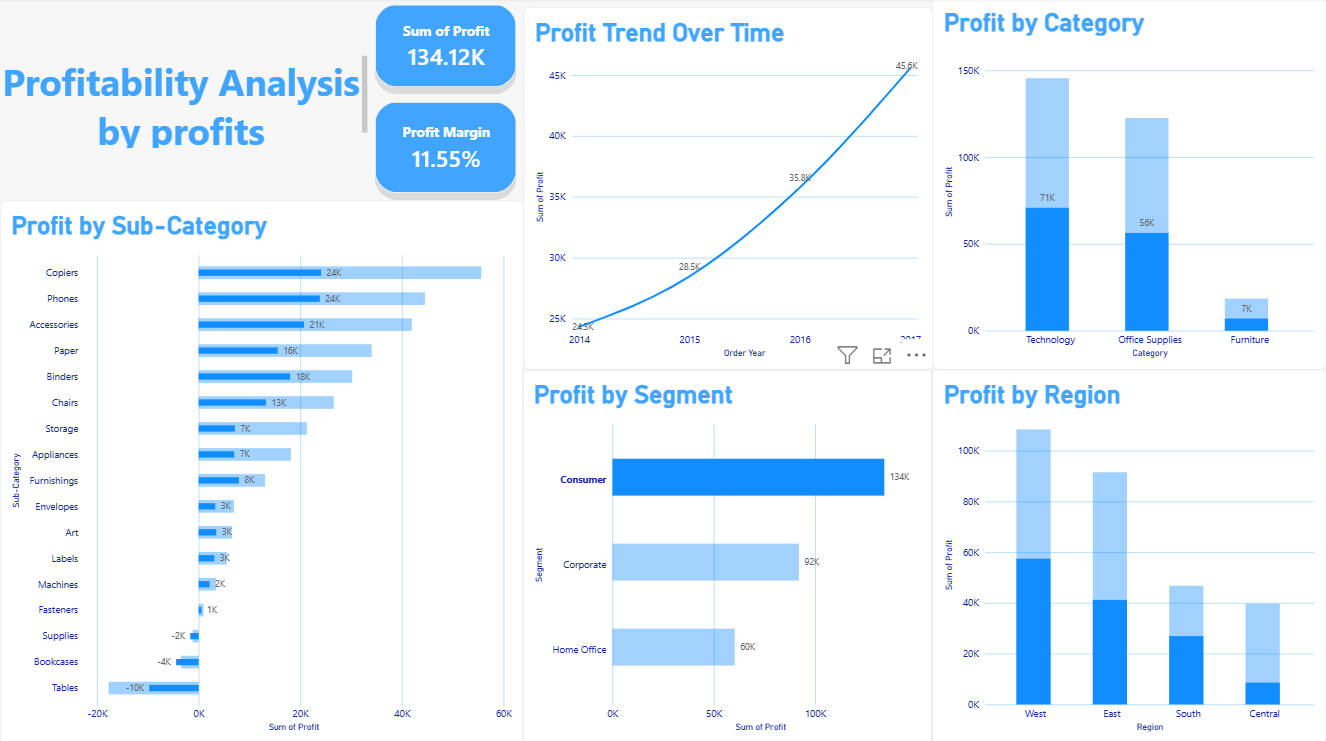

This screenshot's page, from the dashboard's own definition file:
{"tool":"powerbi","page":{"name":"Profitability_Analysis","canvas":[1920,1080],"ordinal":1},"visuals":[{"type":"cardVisual","fields":{"Data":["Sum(Superstore.Profit)"]},"box":[532,0,226.2,141.2],"z":0},{"type":"cardVisual","fields":{"Data":["Superstore.Profit Margin"]},"box":[532,141.2,226.2,153.8],"z":1},{"type":"clusteredColumnChart","title":"Profit by Category","fields":{"Category":["Superstore.Category"],"Y":["Sum(Superstore.Profit)"]},"box":[1350.3,0,570.2,539.3],"z":2},{"type":"lineChart","title":"Profit Trend Over Time","fields":{"Category":["Superstore.Order Year"],"Y":["Sum(Superstore.Profit)"]},"box":[757.5,14.4,592.8,524.9],"z":3},{"type":"barChart","title":"Profit by Sub-Category","fields":{"Category":["Superstore.Sub-Category"],"Y":["Sum(Superstore.Profit)"]},"box":[0,295,758.2,785.4],"z":4},{"type":"barChart","title":"Profit by Segment","fields":{"Category":["Superstore.Segment"],"Y":["Sum(Superstore.Profit)"]},"box":[757,539,593,541],"z":5},{"type":"columnChart","title":"Profit by Region","fields":{"Category":["Superstore.Region"],"Y":["Sum(Superstore.Profit)"]},"box":[1350,539,570,541],"z":6},{"type":"textbox","box":[0,85.1,532,133.9],"z":7}]}

Visuals, with their boxes in screenshot pixels (x1, y1, x2, y2), scaled from the page's 1920x1080 canvas onto the 1326x741 screenshot:
cardVisual - Sum(Superstore.Profit): 367, 0, 524, 97
cardVisual - Superstore.Profit Margin: 367, 97, 524, 202
"Profit by Category" clusteredColumnChart: 933, 0, 1325, 370
"Profit Trend Over Time" lineChart: 523, 10, 933, 370
"Profit by Sub-Category" barChart: 0, 202, 524, 740
"Profit by Segment" barChart: 523, 370, 932, 740
"Profit by Region" columnChart: 932, 370, 1325, 740
textbox: 0, 58, 367, 150
